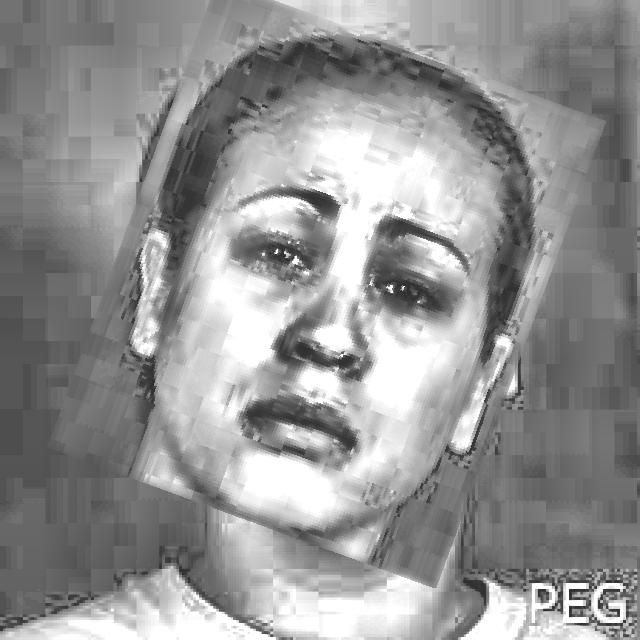sad: (84, 7, 570, 561)
